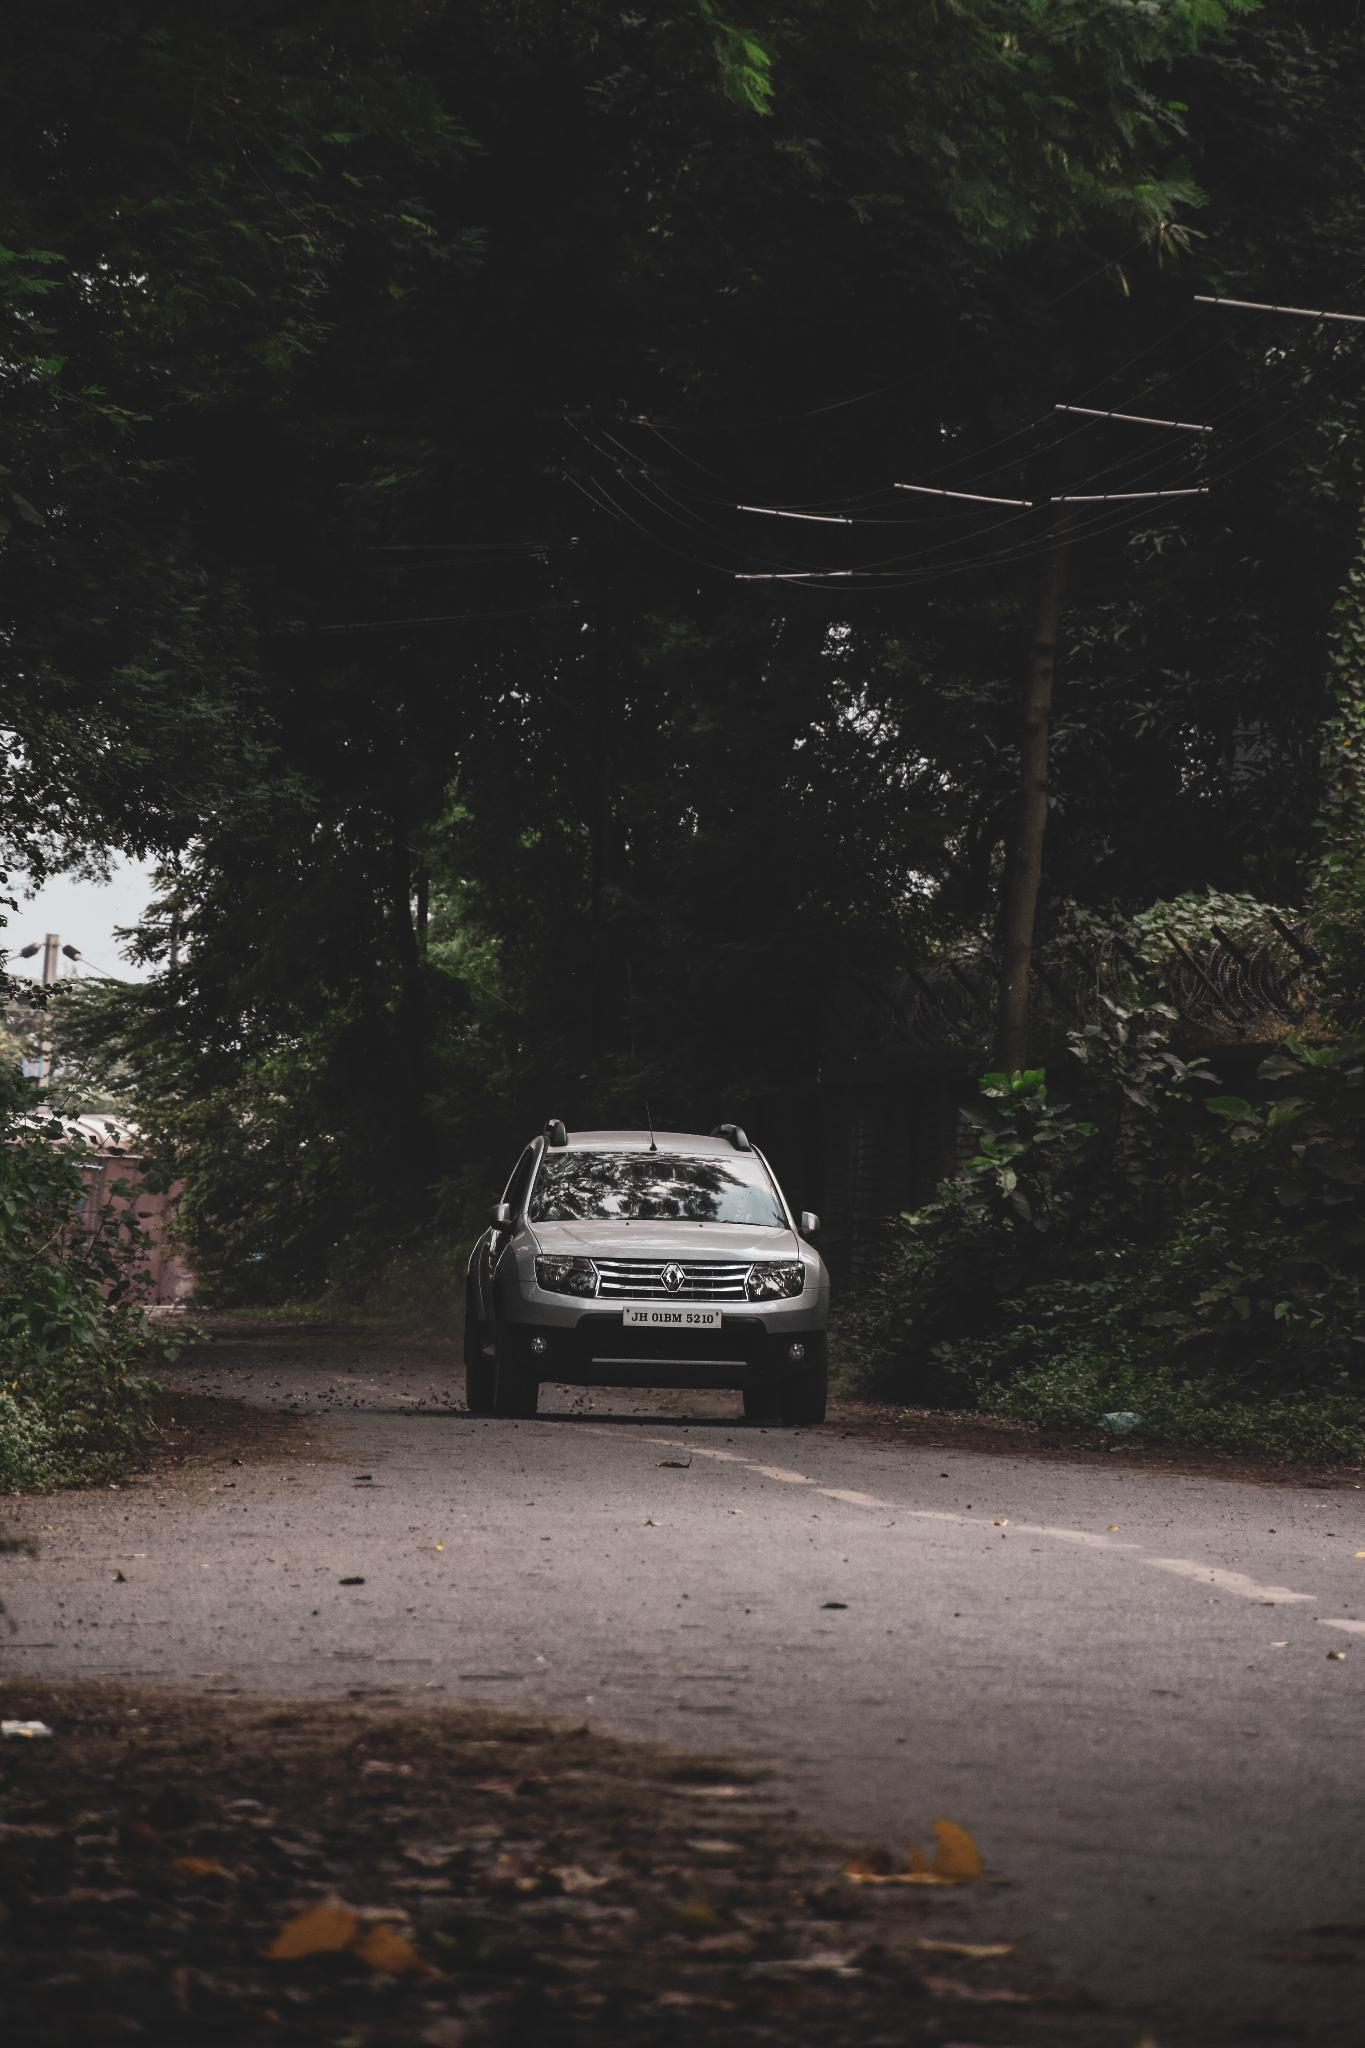Renault: (655, 1258, 692, 1305)
